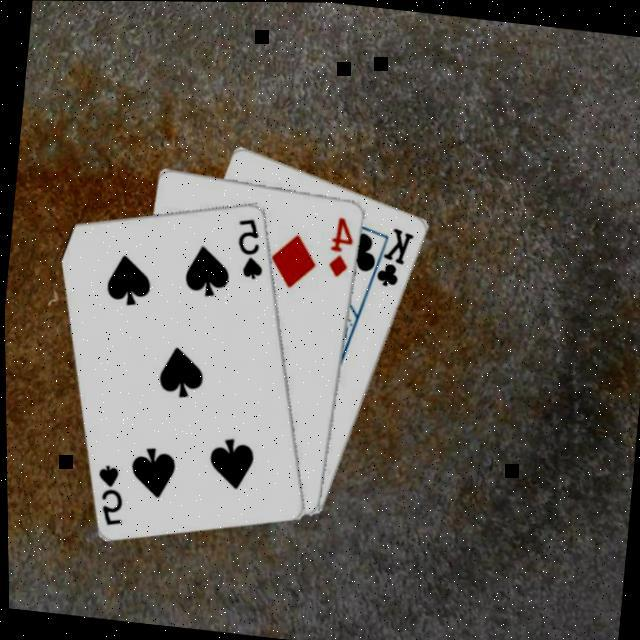4D: (322, 213, 356, 281)
5S: (228, 215, 269, 283), (87, 461, 128, 529)
KC: (361, 223, 417, 295)
